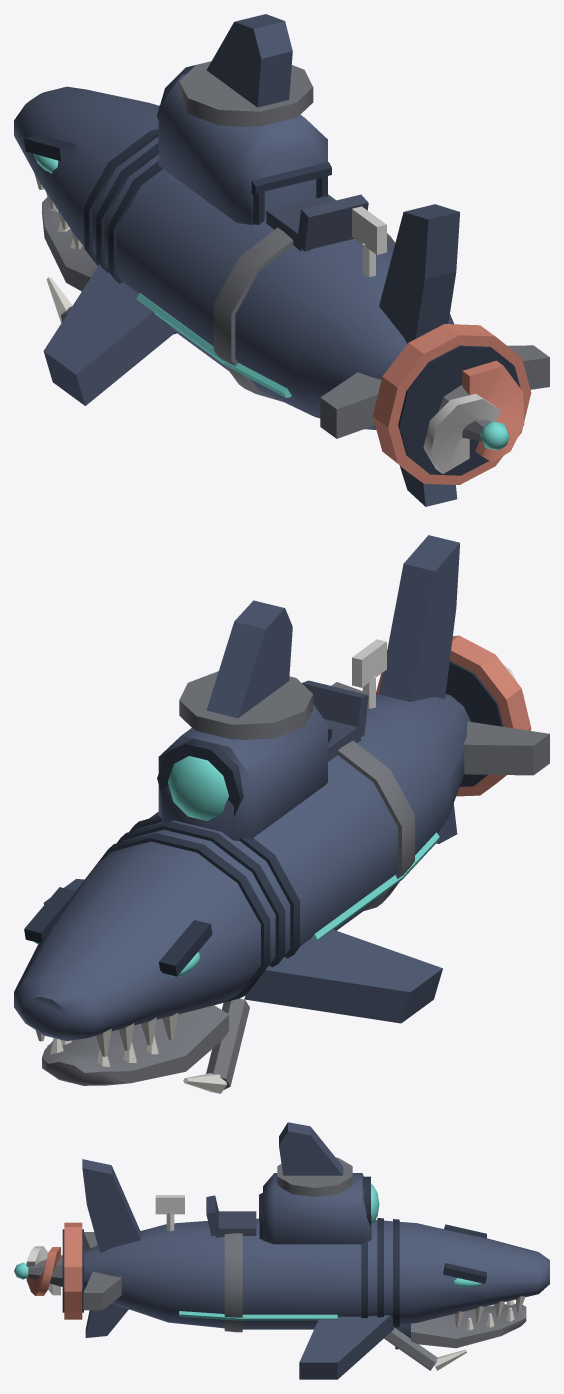
The model's file is MidnightHunter.glb.
The picture shows the model from 3 angles, top to bottom: view 1: azimuth 30°, elevation 25°; view 2: azimuth 150°, elevation 25°; view 3: azimuth 270°, elevation 25°; orthographic projection. The views are drawn at different scales.
Visible parts, largest first — view 1: Hull, Prop, Seat, Hull_Glow, Prop_Glow; view 2: Hull, Hull_Glow, Seat; view 3: Hull, Prop, Seat, Hull_Glow.
Boxes of the visible parts, x1,y1,x2,y2 form: Hull: (14,14,549,506); Prop: (423,360,524,473); Seat: (251,162,368,251); Hull_Glow: (33,153,291,397); Prop_Glow: (480,422,509,449); Hull: (14,535,549,1093); Hull_Glow: (34,756,439,977); Seat: (302,680,368,761); Hull: (62,1122,549,1379); Prop: (26,1246,62,1295); Seat: (206,1193,263,1239); Hull_Glow: (179,1184,481,1320).
Bounding box in the file's own units: 22.02 × 21.78 × 47.45.
